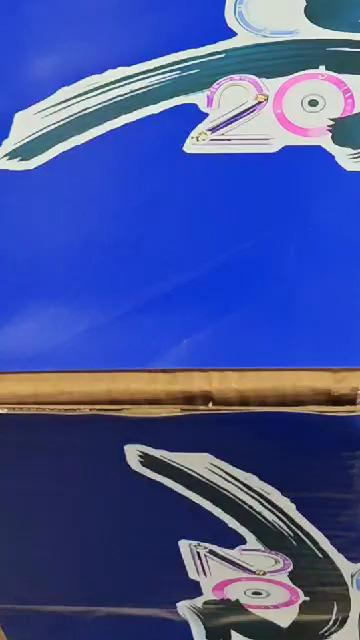B_R1: (3, 0, 360, 185)
